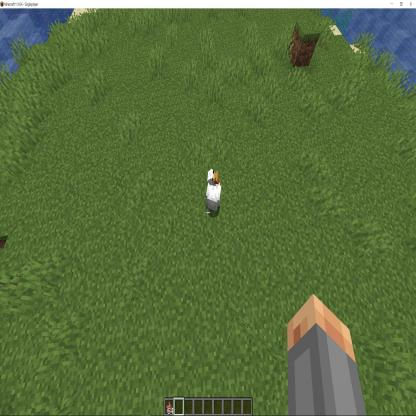minecraft-pigs: (206, 169, 222, 217)
